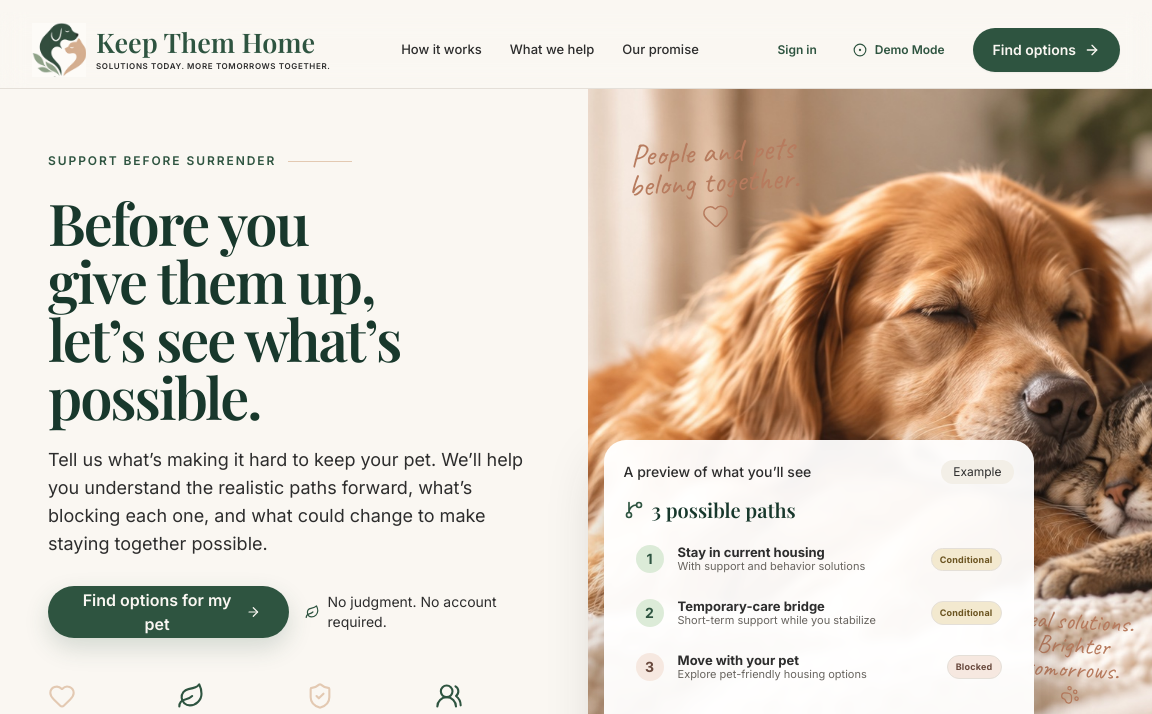
Keep Them Home demo flows › returns home from an assessment through the full logo hit area without signing out
Click the button "Find options for my pet" at (168, 612), box [48, 586, 289, 638]
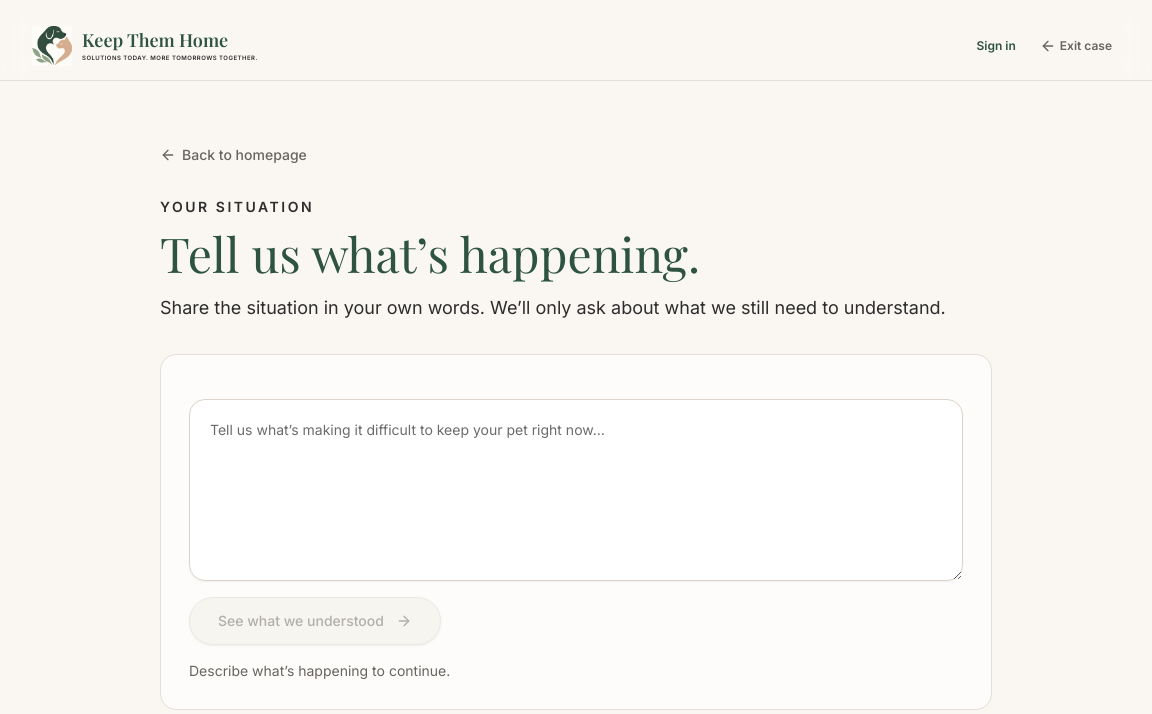
Expected: the heading "Tell us what’s happening." is shown, [160, 221, 700, 285]
Click the link with aria-label "Keep Them Home Homepage" at (145, 46), box [32, 24, 258, 68]
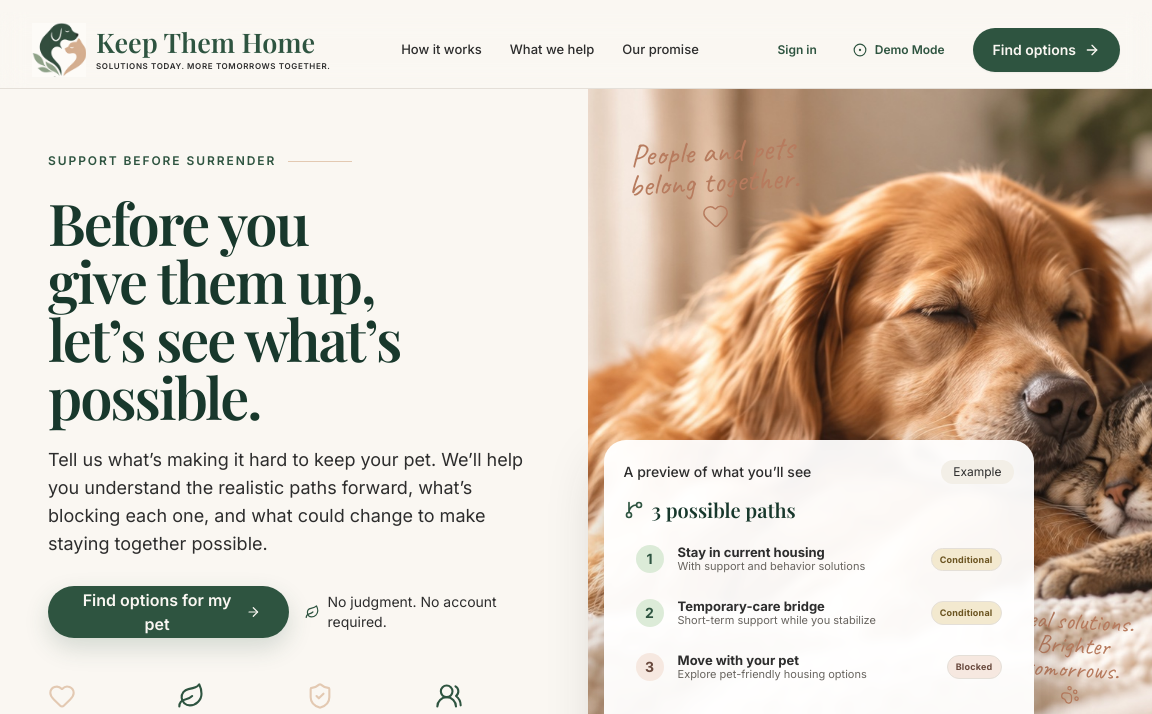
Expected: the heading named "Before you give them up, let’s see what’s possible." is shown, [48, 184, 400, 434]
